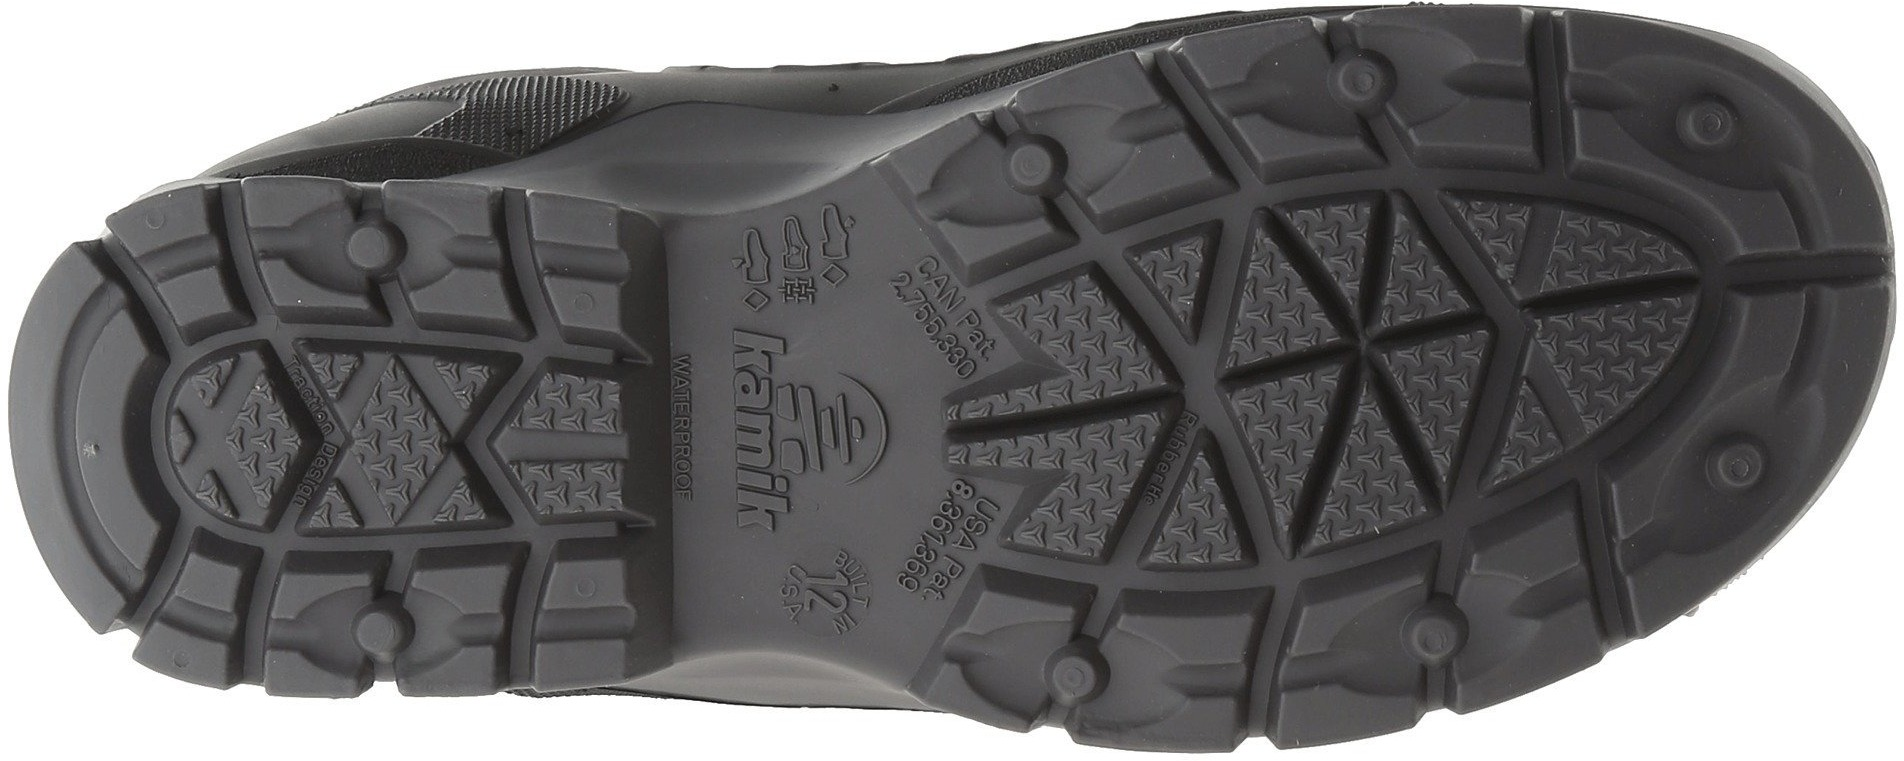chevron: (905, 267, 1198, 564)
exclude: (614, 191, 729, 691), (500, 648, 958, 759)
quad: (1064, 561, 1282, 734), (1348, 15, 1545, 191), (229, 540, 413, 695), (223, 180, 391, 330)
text: (729, 326, 815, 413), (727, 465, 800, 538)
triangle: (1090, 160, 1530, 586), (290, 322, 526, 540)
